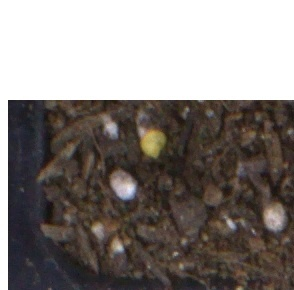chilli seed: (139, 130, 167, 158)
